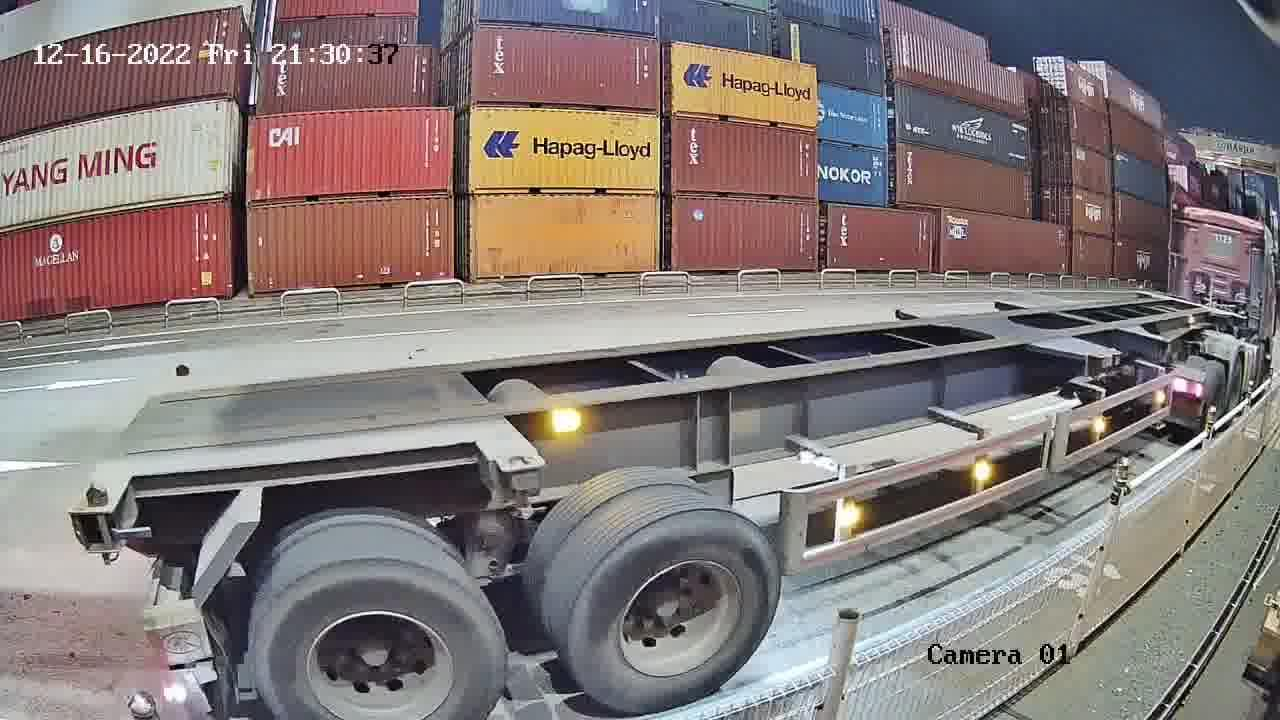Cone: (70, 483, 117, 550)
Tire: (568, 514, 780, 712), (253, 565, 505, 714)
